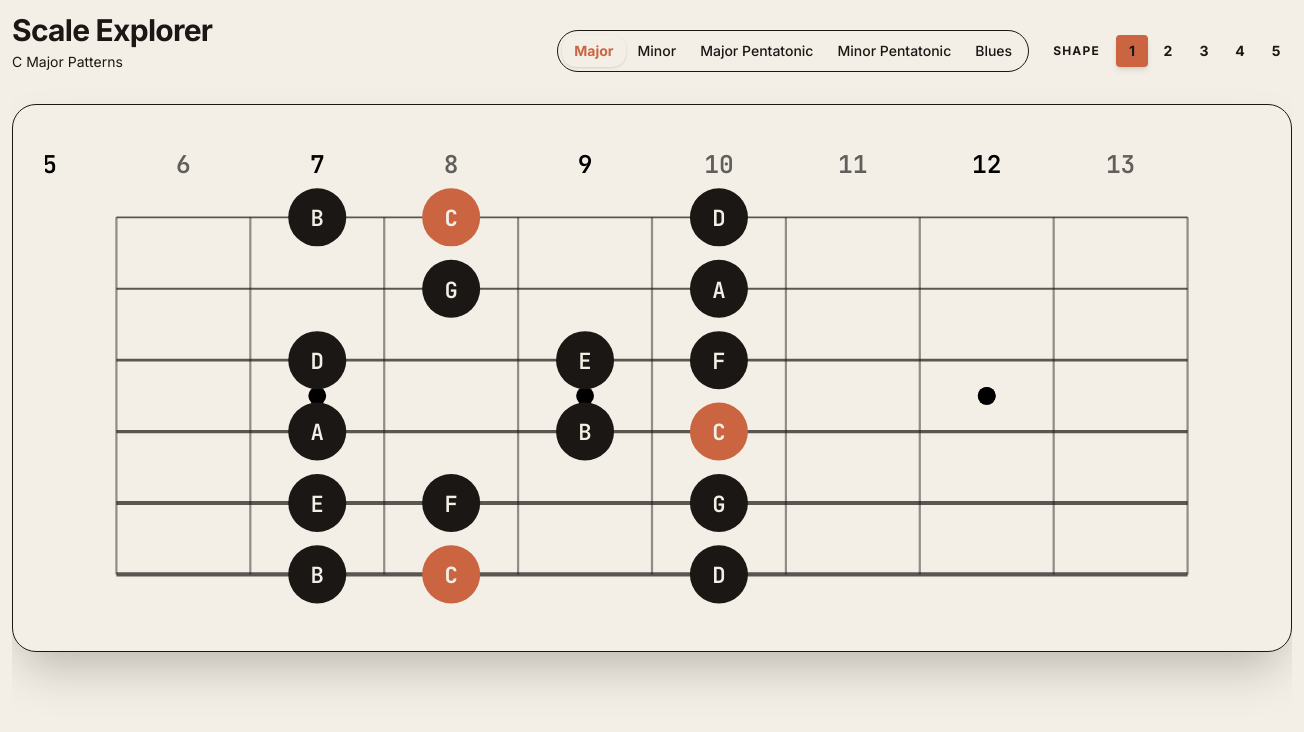
Test: ScaleExplorer › updates the subtitle when switching to Minor Pentatonic
This screenshot has width=1304, height=732.
Expected: the text "C Major Patterns" is shown, left=12, top=53, right=123, bottom=70
Click the button "Minor Pentatonic". click: (894, 51)
box: left=826, top=35, right=963, bottom=67
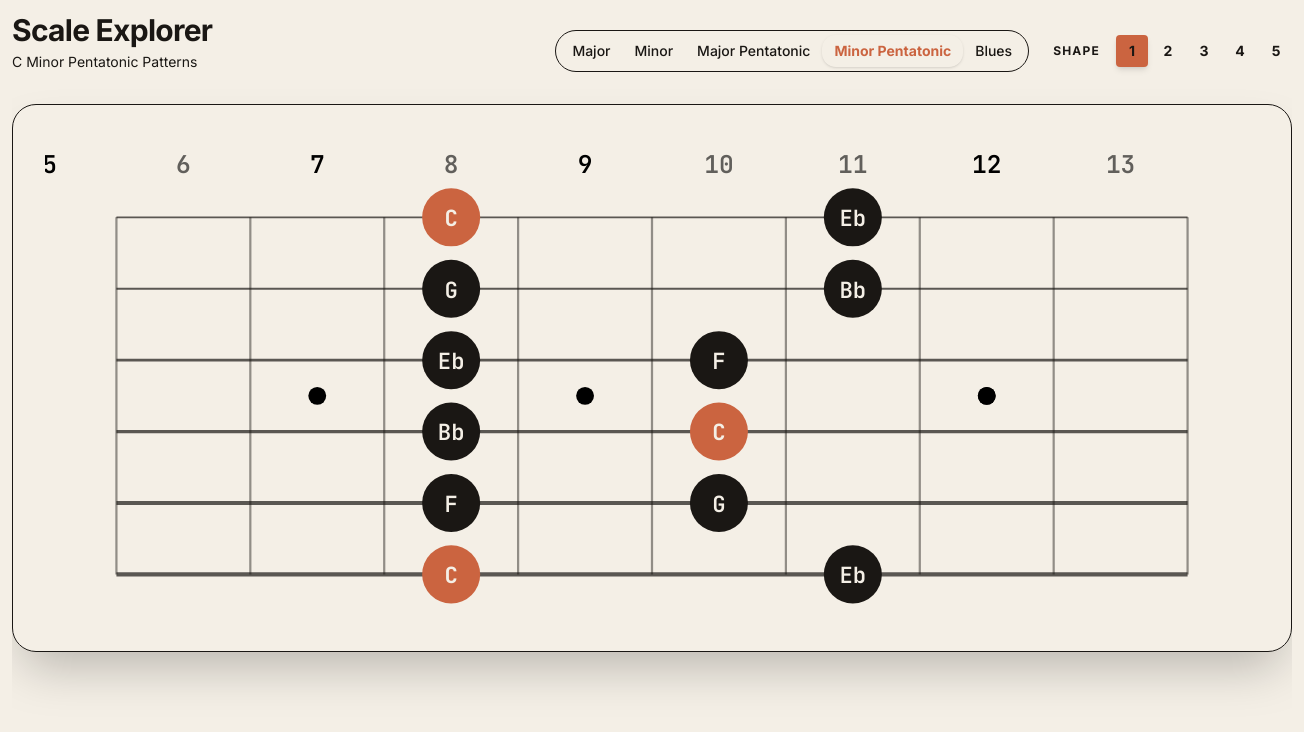
Result: the text "C Minor Pentatonic Patterns" is shown at left=12, top=52, right=212, bottom=72
